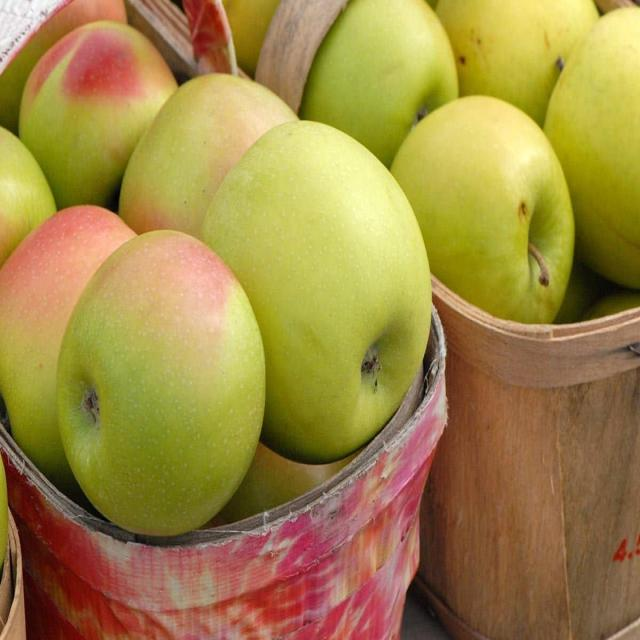Green Apple: (196, 117, 435, 460), (542, 2, 640, 295)
Red Apple: (58, 226, 267, 535), (16, 19, 179, 212)
